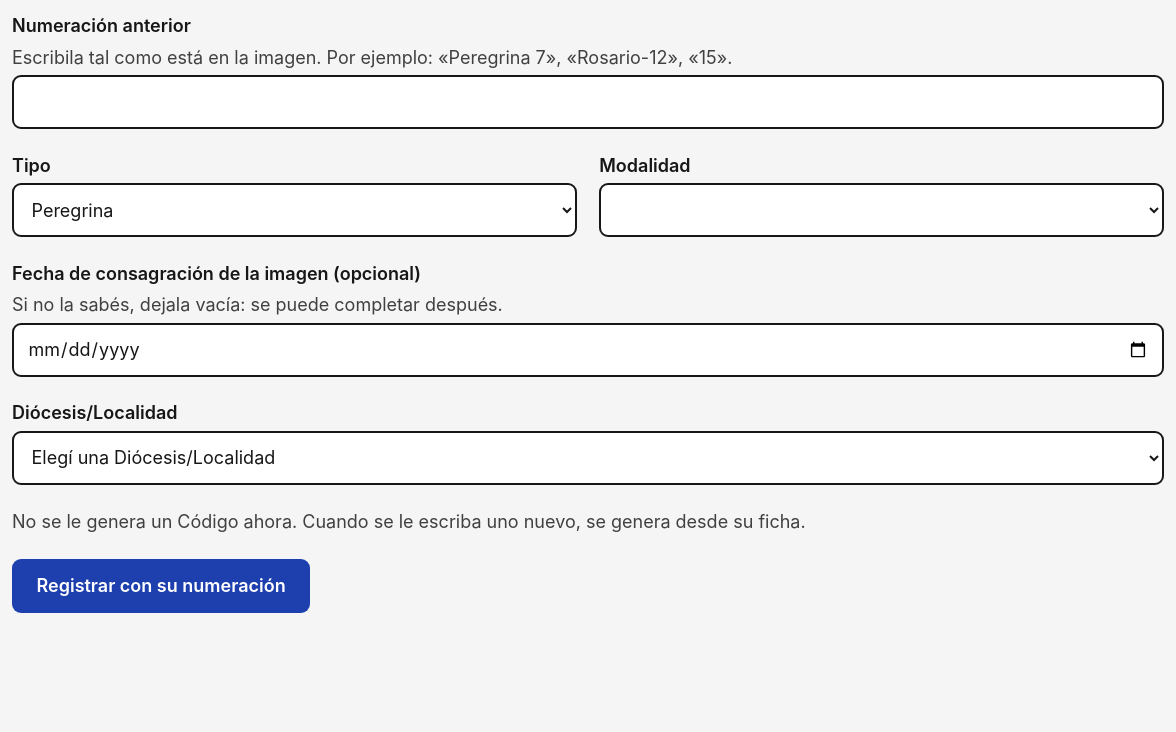
Test: el alta de una imagen vieja › manda la numeración tal como se tipeó y no promete un Código
Type "Peregrina 7" into the field labelled "Numeración anterior" at (588, 102), box [12,75,1164,129]
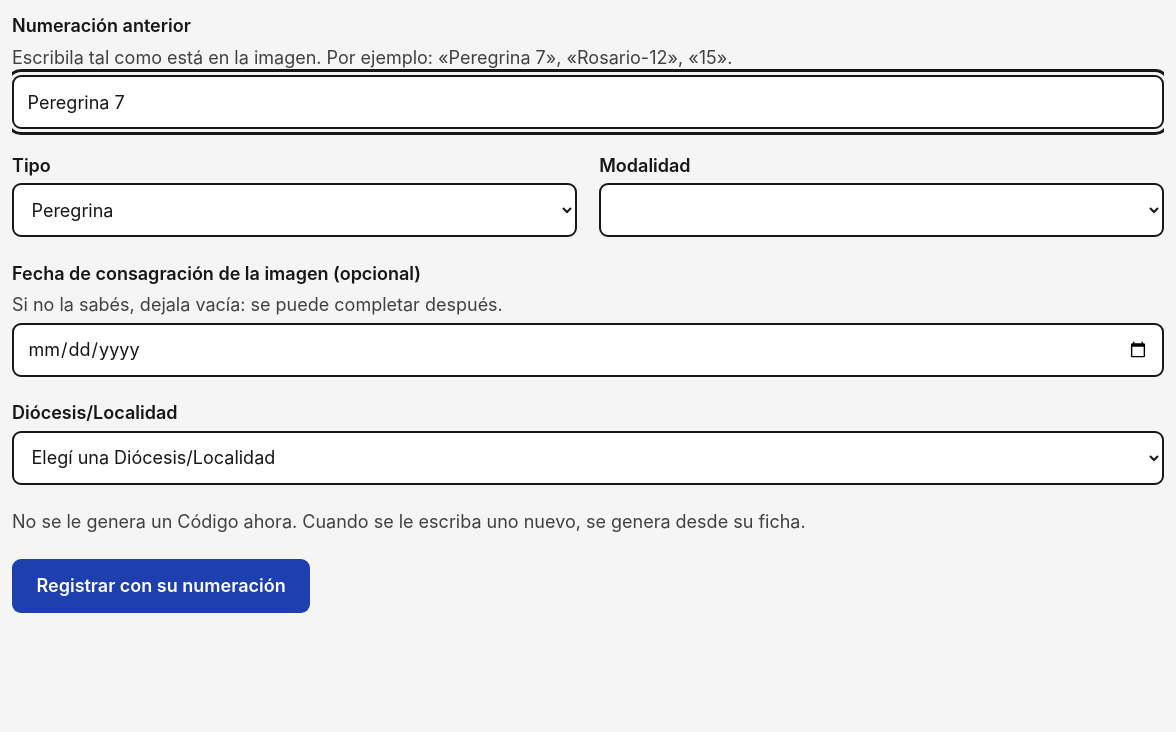
Select "Villa María" in the dropdown labelled "Diócesis/Localidad" at (588, 458), box [12,430,1164,484]
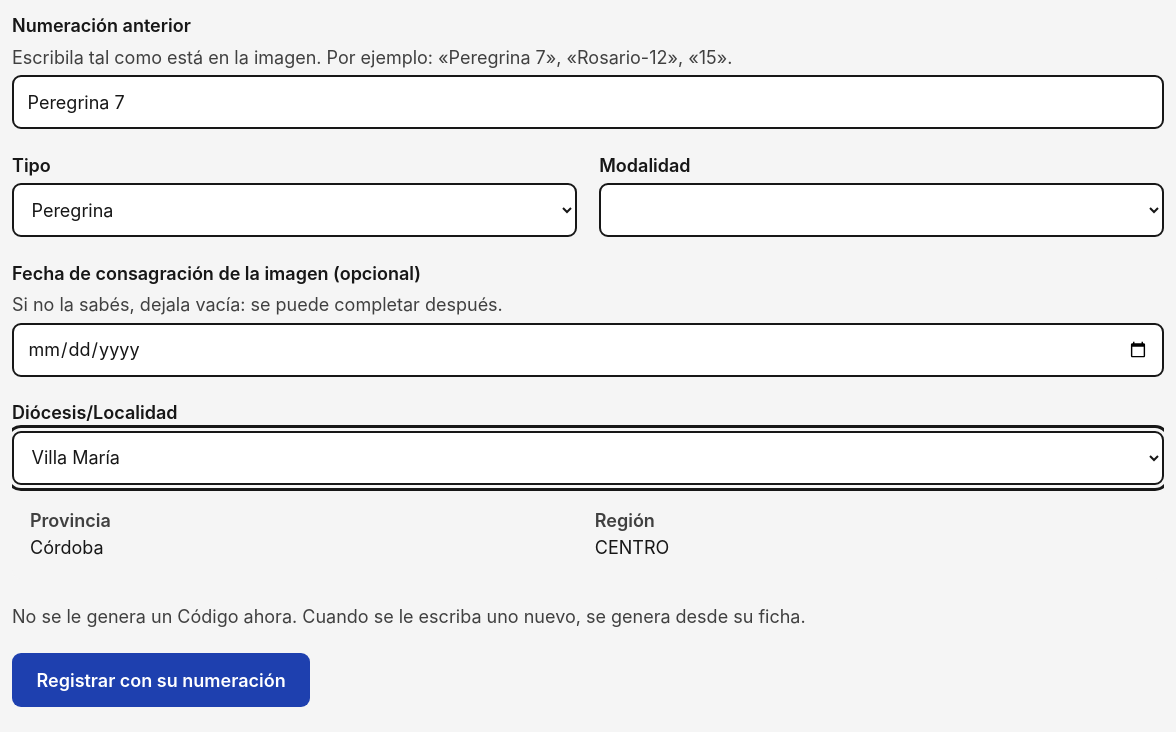
Click the button "Registrar con su numeración" at (161, 680), box [12,653,310,707]
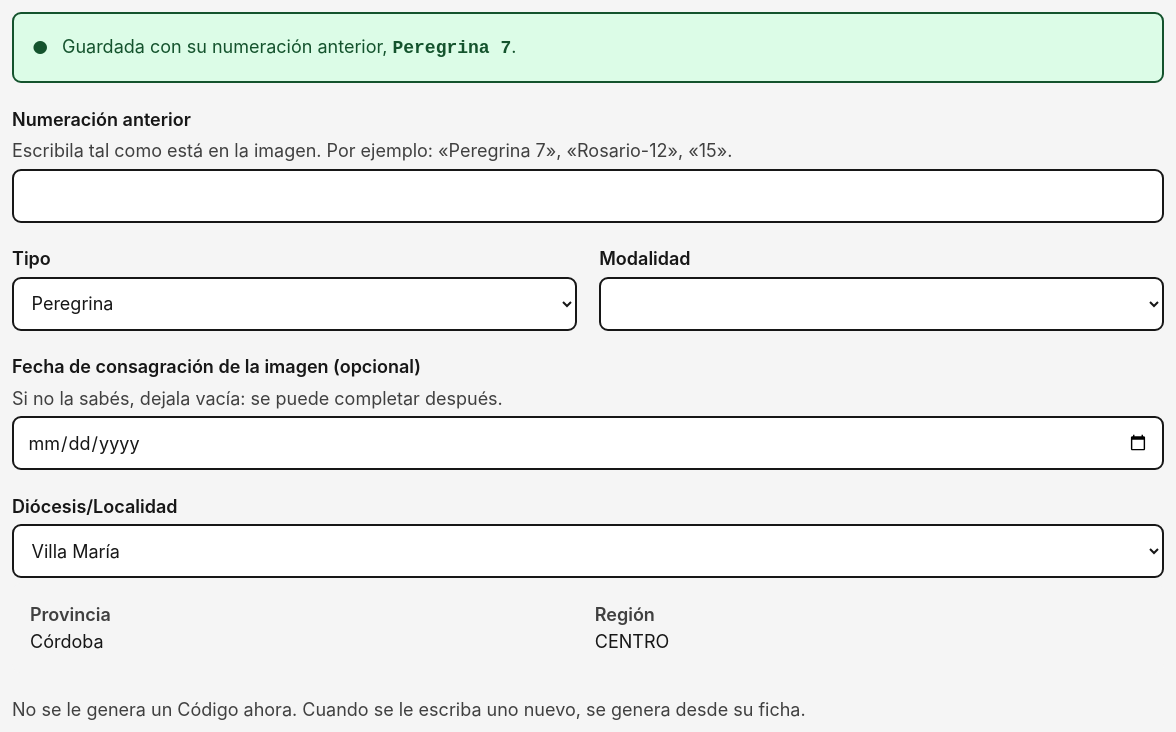
Check: the text "Guardada con su numeración anterior, Peregrina 7." is shown, box [62,32,516,63]
Check: the field labelled "Numeración anterior" is empty, box [12,169,1164,223]
